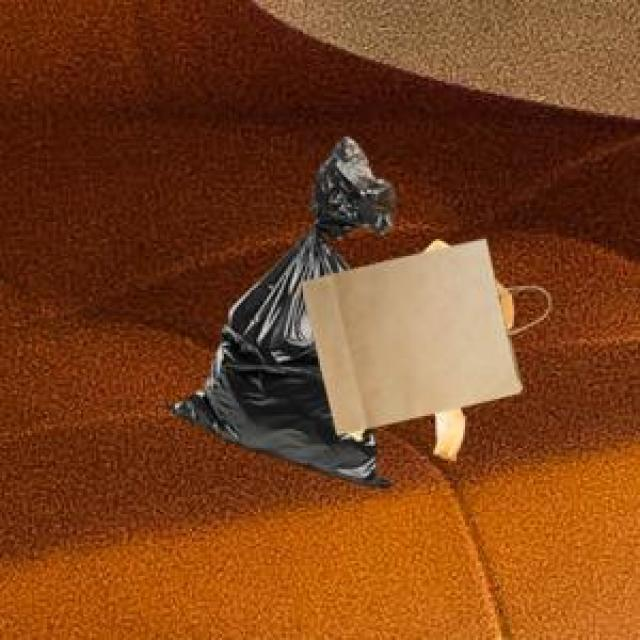miscellaneous trash: (162, 132, 388, 484)
paper: (297, 235, 518, 431)
